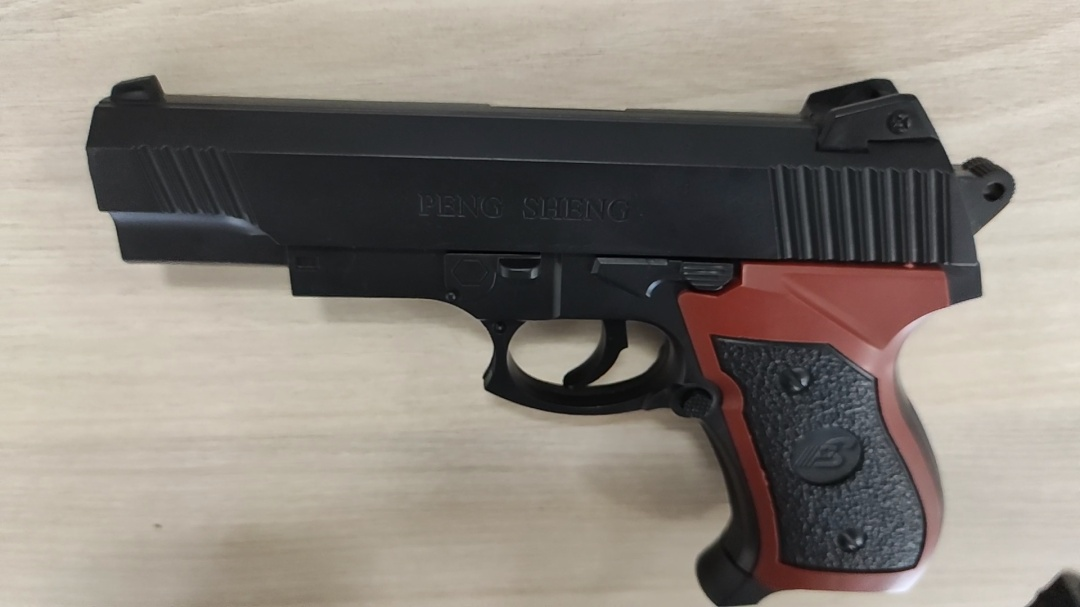gun: (400, 232, 488, 298)
